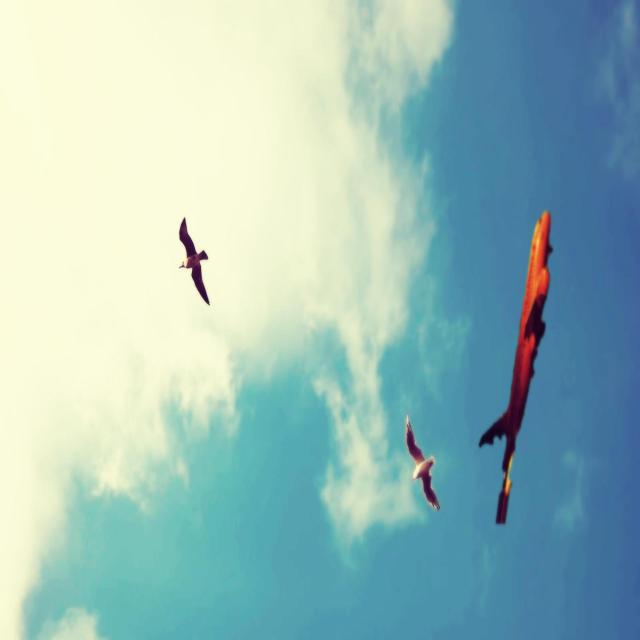airplane: (478, 208, 553, 524)
